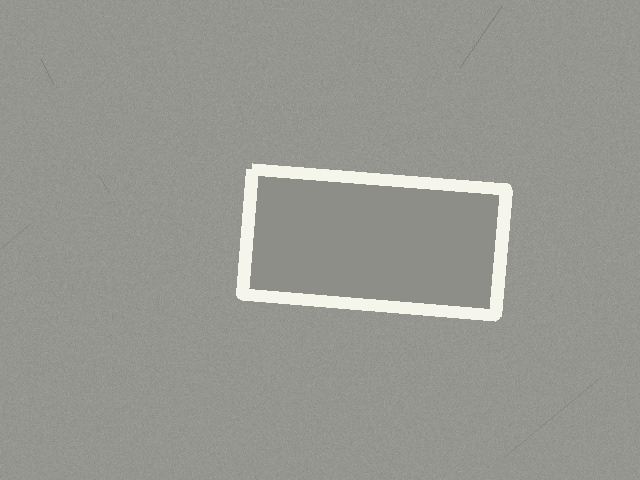parking_area: (242, 169, 506, 315)
